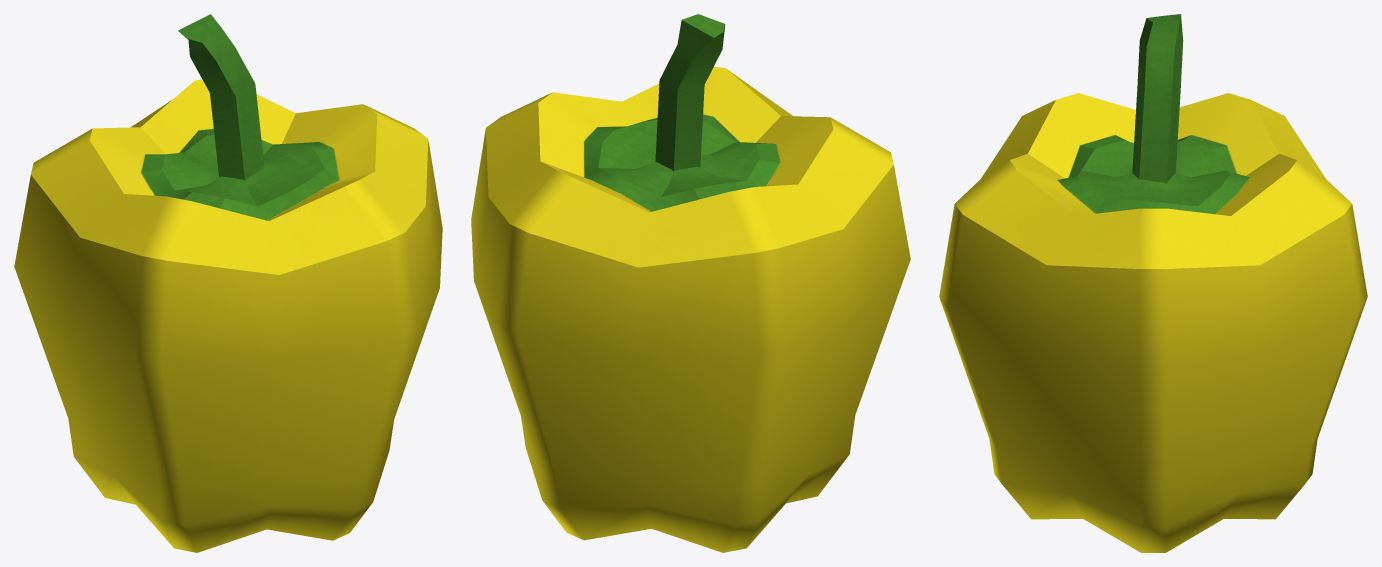
The model's file is pepper3.fbx.
3 renders of one model, left to right at view 1: azimuth 30°, elevation 25°; view 2: azimuth 150°, elevation 25°; view 3: azimuth 270°, elevation 25°, orthographic. The views are drawn at different scales.
Parts seen in each view (by area): view 1: pepper3; view 2: pepper3; view 3: pepper3.
Part boxes in pixels (bbox=[...]): pepper3: bbox=[14, 14, 442, 552]; pepper3: bbox=[471, 14, 910, 552]; pepper3: bbox=[939, 14, 1367, 552].
Size of the model in its own units: 0.5074 by 0.6309 by 0.5229.
Materials: 1 (1 with a texture image).
